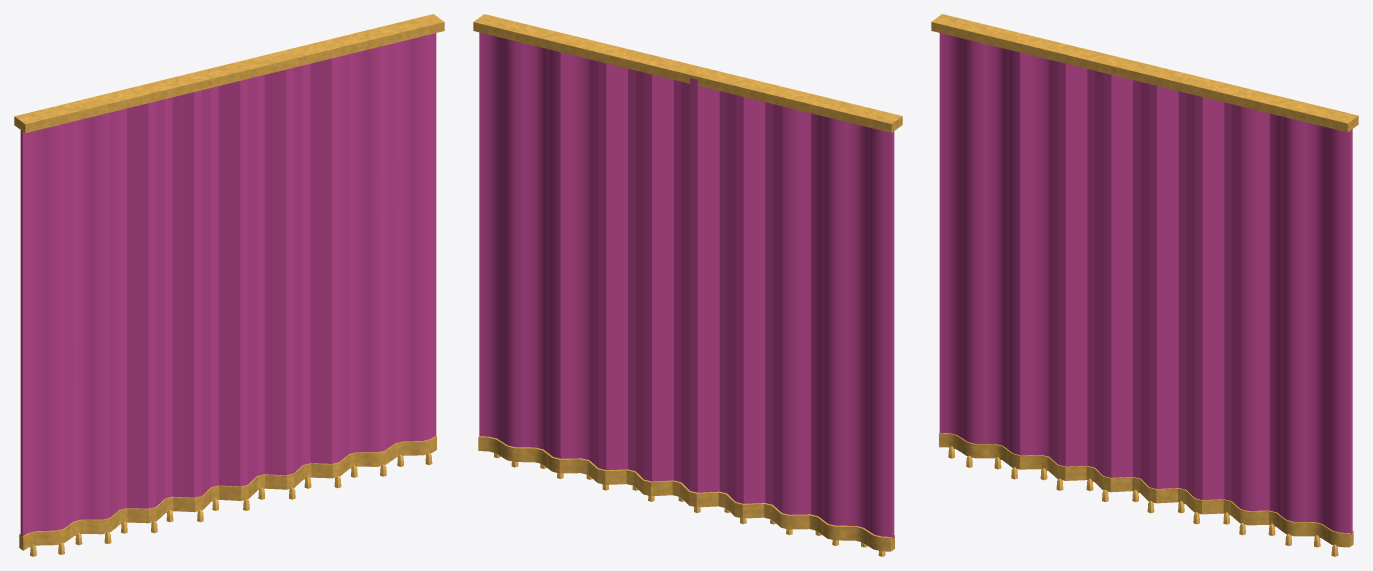
File: citadel_fx_drape.glb
The picture shows the model from 3 angles, left to right: view 1: azimuth 30°, elevation 25°; view 2: azimuth 150°, elevation 25°; view 3: azimuth 330°, elevation 25°; orthographic projection.
Visible parts, largest first — view 1: fx_drape_velvet, fx_drape_gold; view 2: fx_drape_velvet, fx_drape_gold; view 3: fx_drape_velvet, fx_drape_gold.
Part boxes in pixels (x1,y1,x2,y2): fx_drape_velvet: (20, 33, 436, 536); fx_drape_gold: (14, 14, 444, 556); fx_drape_velvet: (479, 32, 894, 538); fx_drape_gold: (473, 14, 902, 556); fx_drape_velvet: (939, 33, 1352, 534); fx_drape_gold: (931, 14, 1358, 556).
Size of the model in its own units: 4.41 by 4.43 by 0.2508.
2 materials, 1 textured.
